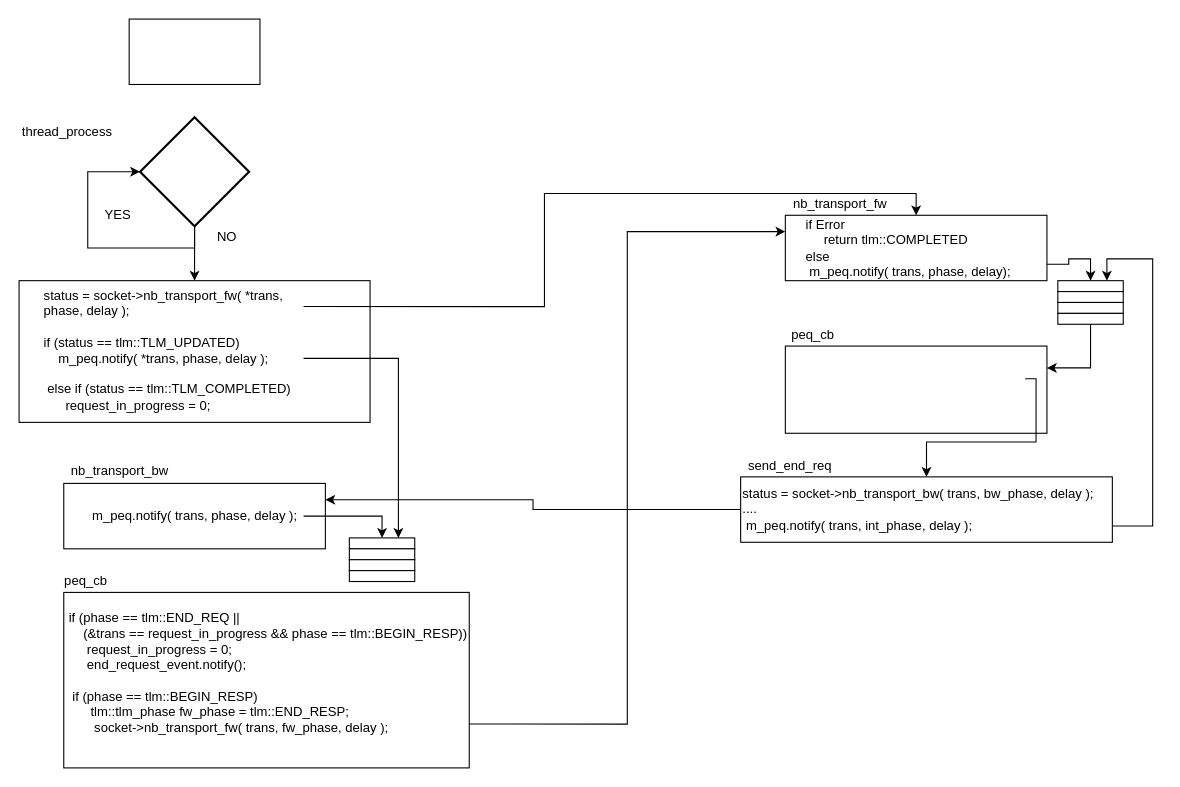
This 1180x787 diagram has some shape labels left out. The shapes that lost their labels are listed below. From the top down, each one's box as (x1, y1, x2, y2) in pixels, then its label:
(128, 18, 260, 84): Create transaction
(138, 116, 250, 227): request in progress
(784, 345, 1047, 433): case tlm::BEGIN_REQ: status = send_end_req(trans); case tlm::END_RESP:
